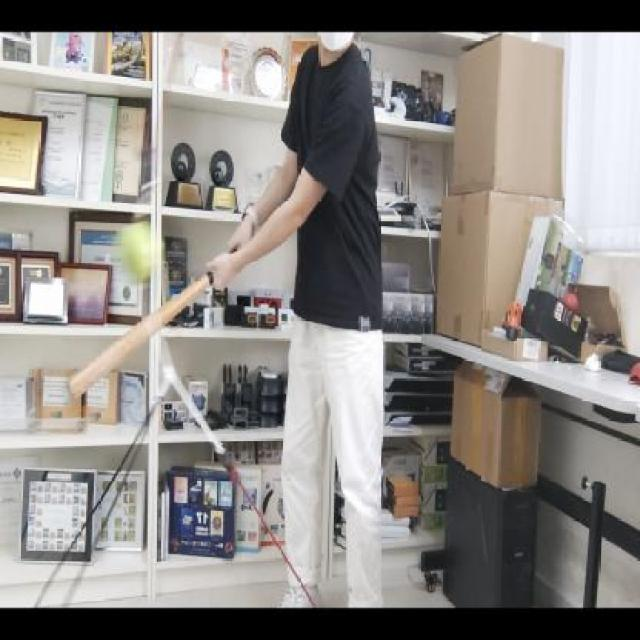baseball: (119, 217, 163, 280)
